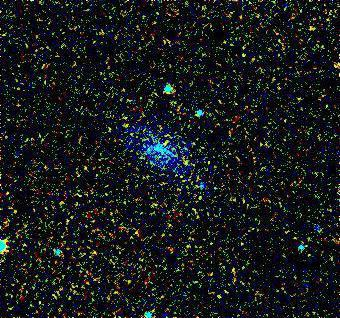star: (171, 148, 201, 178)
